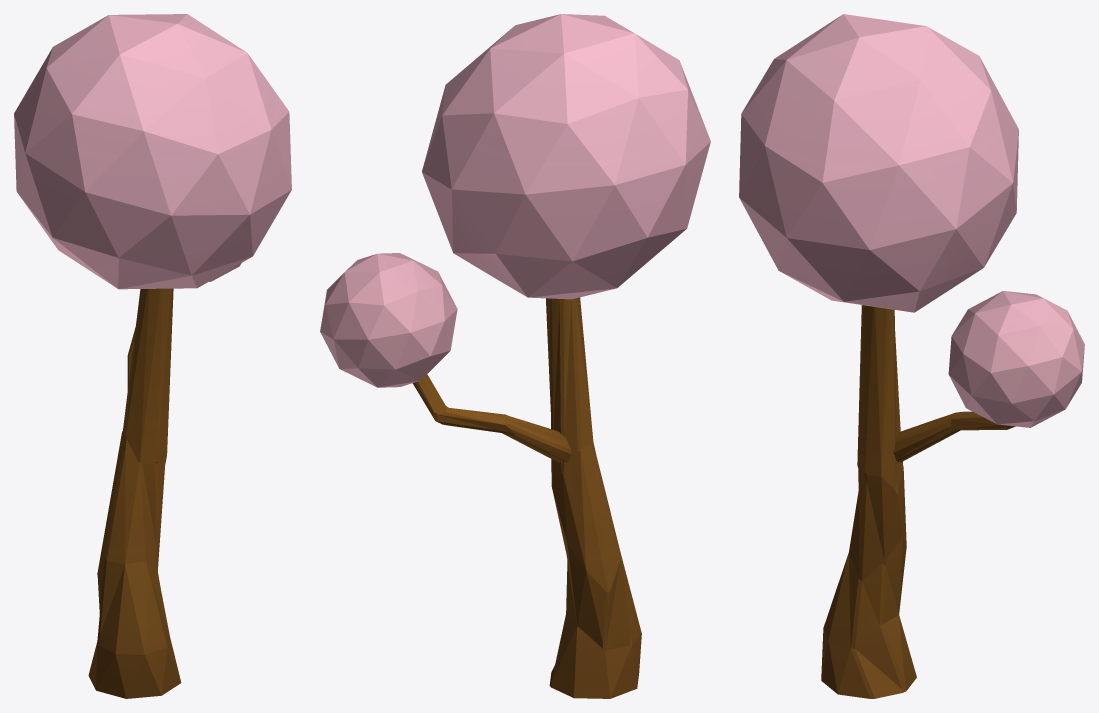
Rendered from tree_sapling.glb.
3 renders of one model, left to right at view 1: azimuth 30°, elevation 25°; view 2: azimuth 150°, elevation 25°; view 3: azimuth 270°, elevation 25°, orthographic.
Parts seen in each view (by area): view 1: Poplar Tree_2_AA; view 2: Poplar Tree_2_AA; view 3: Poplar Tree_2_AA.
Part boxes in pixels (x1=…): Poplar Tree_2_AA: x1=14, y1=14, x2=291, y2=698; Poplar Tree_2_AA: x1=320, y1=14, x2=710, y2=698; Poplar Tree_2_AA: x1=739, y1=14, x2=1084, y2=698.
Bounding box in the file's own units: 0.7433 × 1.59 × 0.7546.
1 material, 1 textured.
